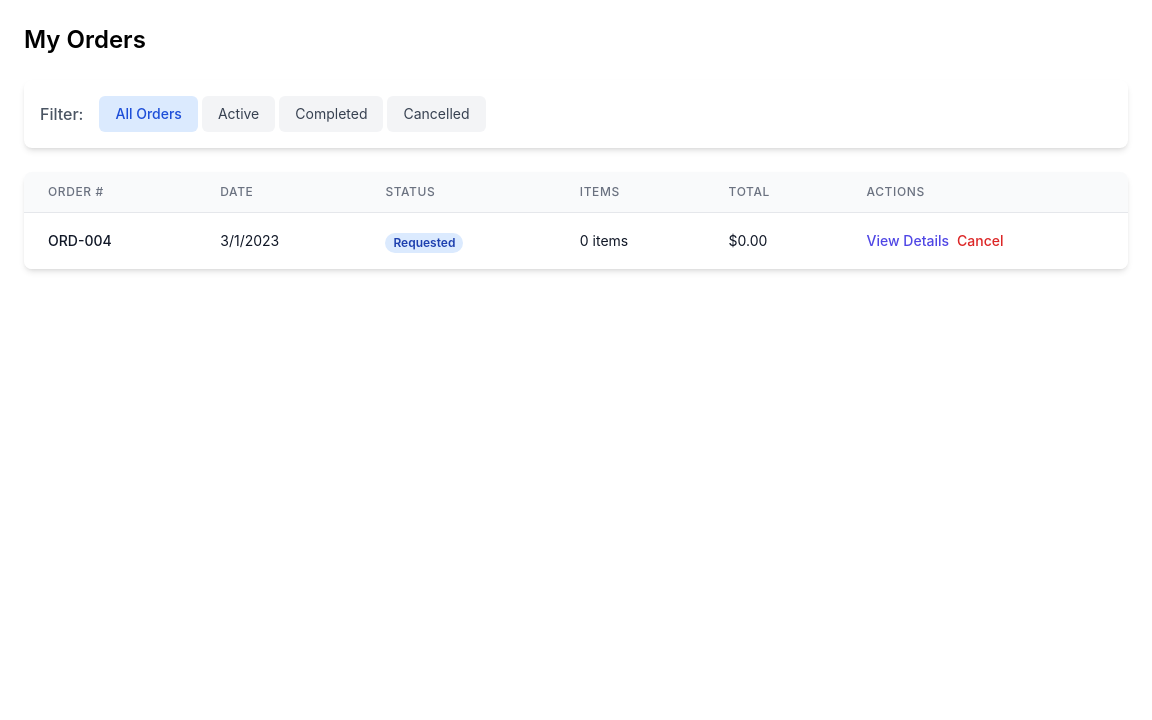
OrdersList Component › handles orders with no items gracefully
Expected: the text "ORD-004" is shown, x1=48 y1=232 x2=112 y2=249
Expected: the text "0 items" is shown, x1=580 y1=232 x2=628 y2=249
Open modal
What coordinates should you click on to do the following:
click the button "View Details"
I would click on:
 (908, 241)
Its box is x1=866 y1=231 x2=949 y2=251.
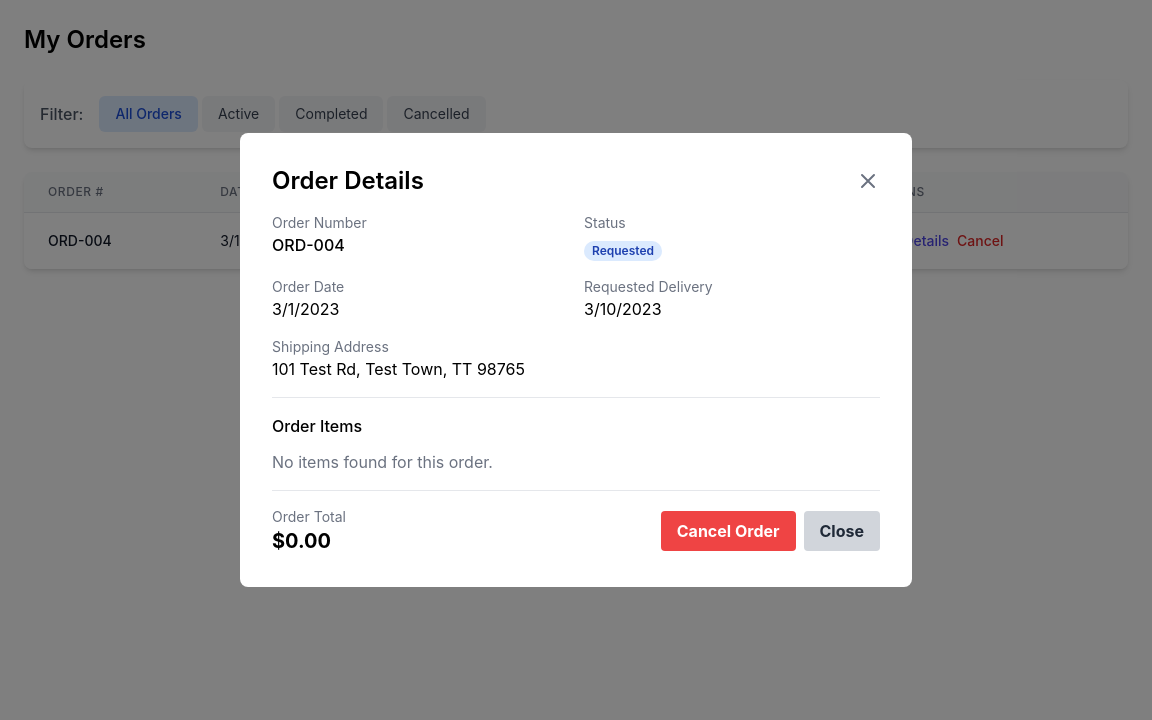
Expected: the text "No items found for this order." is shown, x1=272 y1=452 x2=493 y2=472
